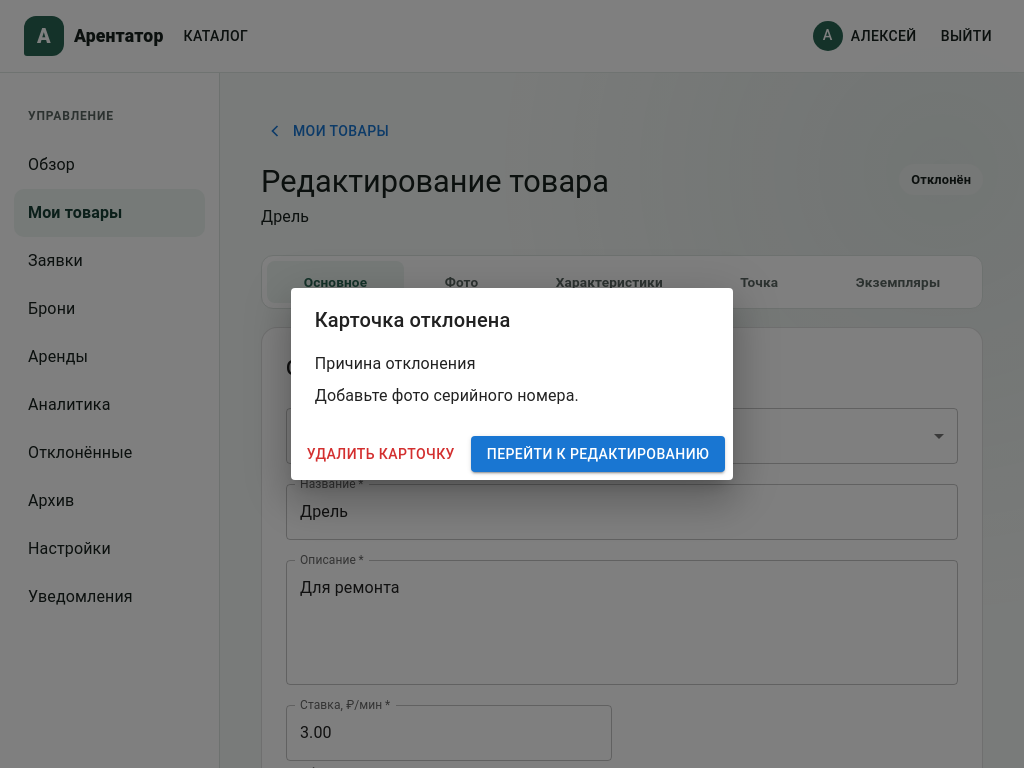
Test: shows the rejection reason and confirms permanent deletion in the same dialog
The image size is (1024, 768).
Expected: the dialog "Карточка отклонена" shows "Добавьте фото серийного номера.", 315,386 -> 579,405
Step 1. Click the button "Удалить карточку" → (381, 454), box 299,436 -> 463,472
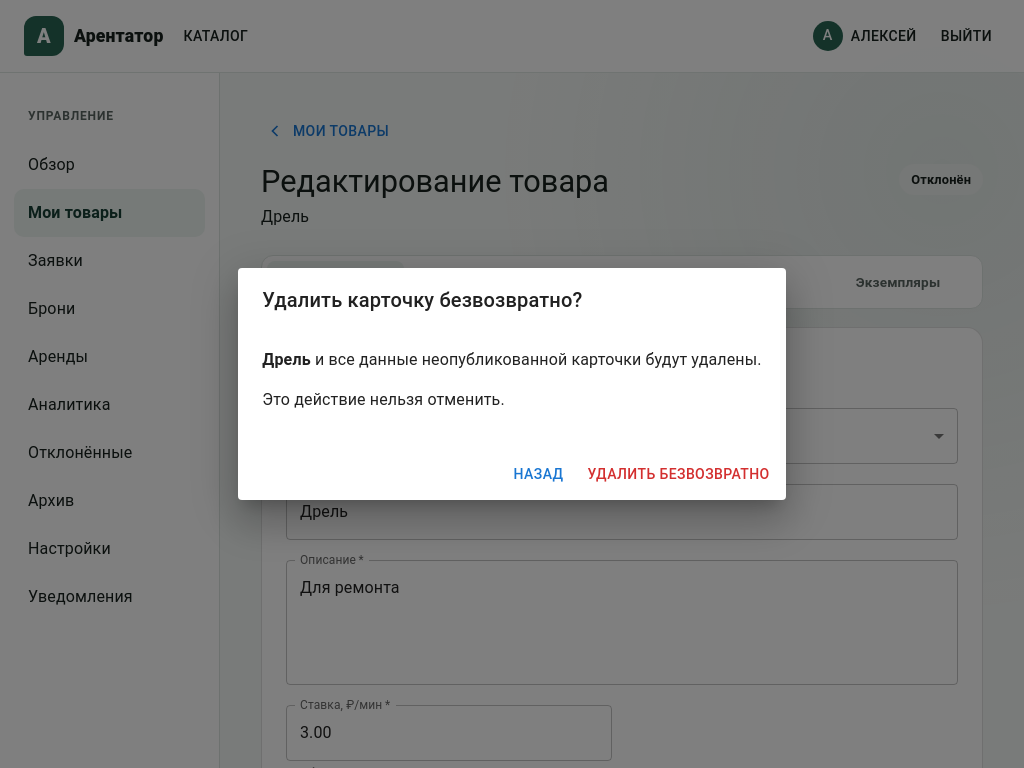
Expected: the dialog "Удалить карточку безвозвратно?" is shown, 238,268 -> 786,500
Step 2. Click the button "Удалить безвозвратно" → (678, 474), box 579,456 -> 778,492
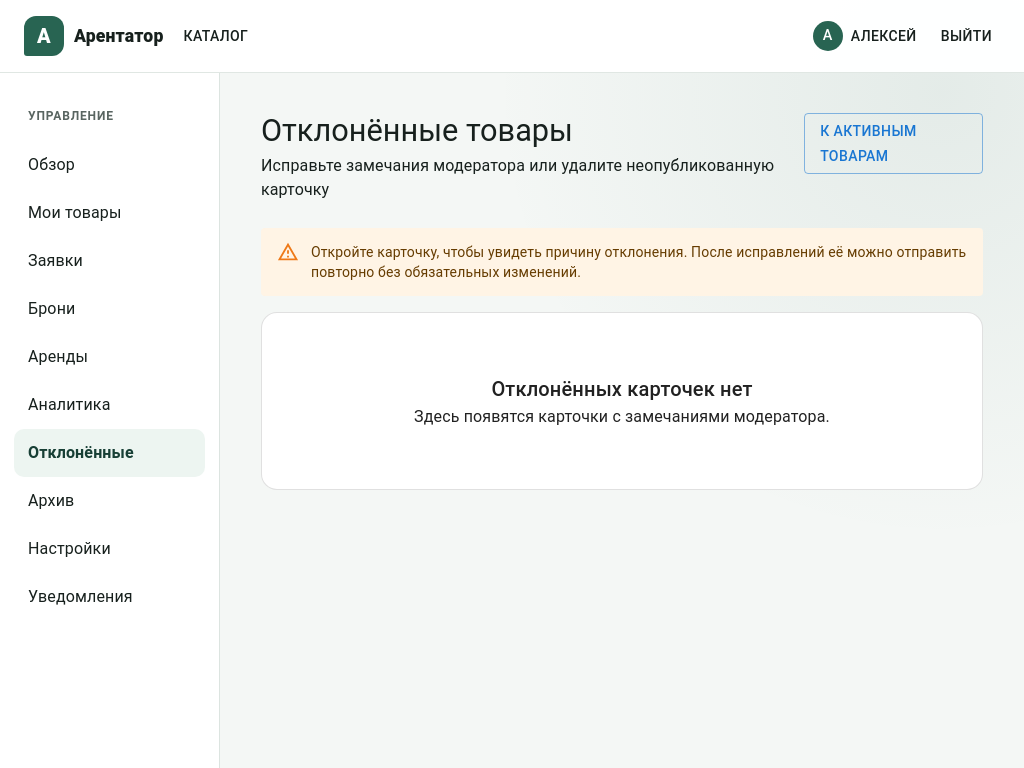
Expected: the heading "Отклонённые товары" is shown, 261,112 -> 573,149
